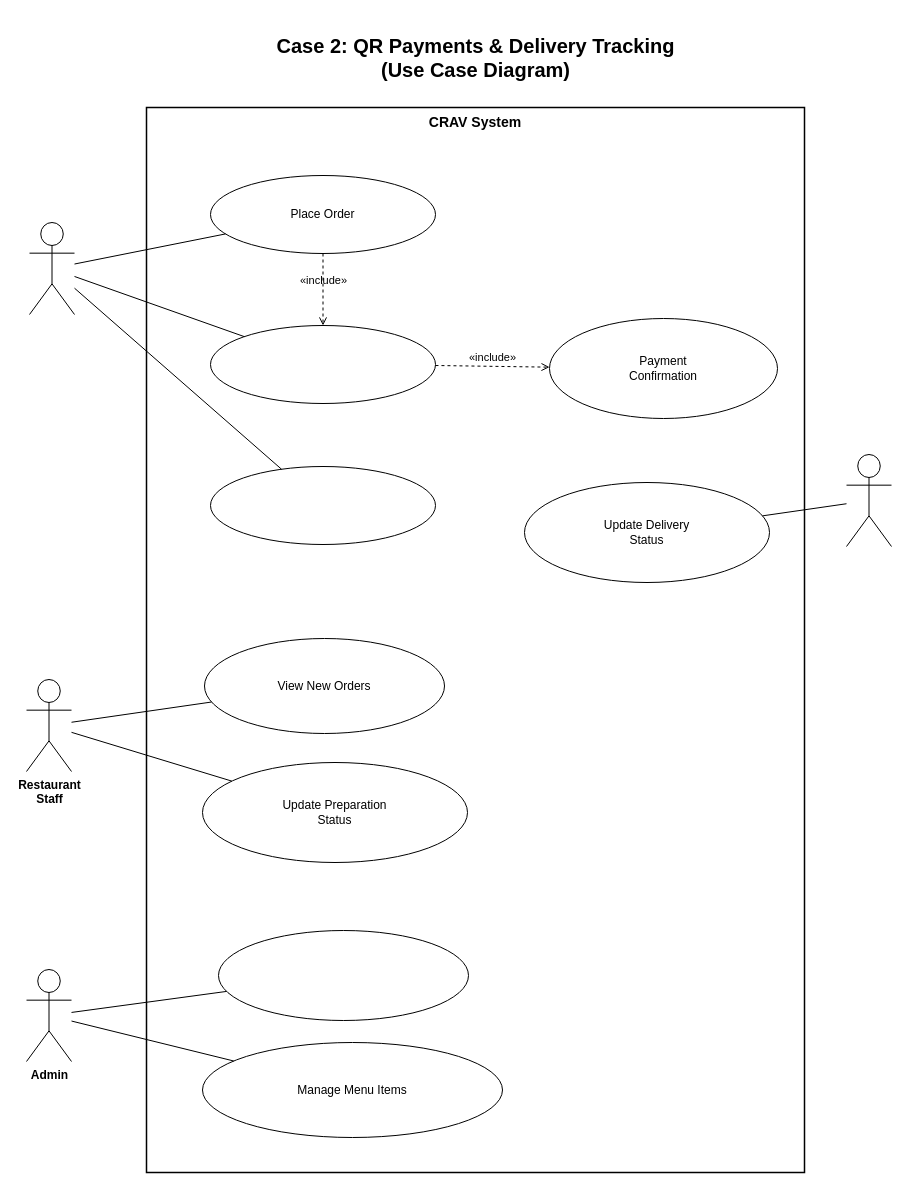
This 909x1190 diagram has some shape labels left out. The centre of each missing label's shape, as x and y in pixels:
"Customer" belongs at (x=51, y=268).
"Delivery Partner" belongs at (x=869, y=500).
"Manage Users" belongs at (x=343, y=975).
"Scan QR & Pay" belongs at (x=323, y=364).
"Track Order" belongs at (x=323, y=505).
